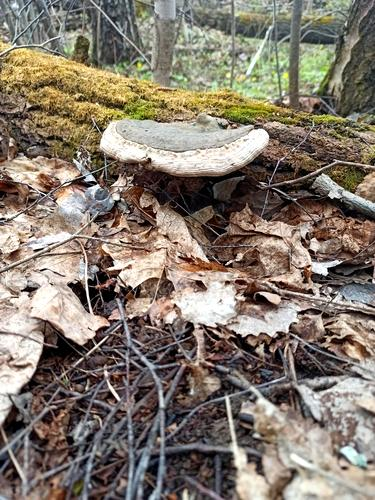Ganoderma - Fruit Body: (98, 112, 269, 176)
